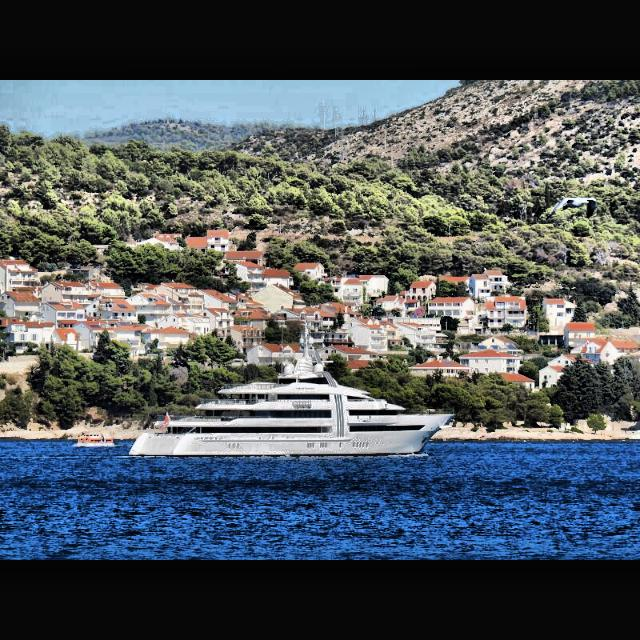yacht: (126, 337, 458, 457)
